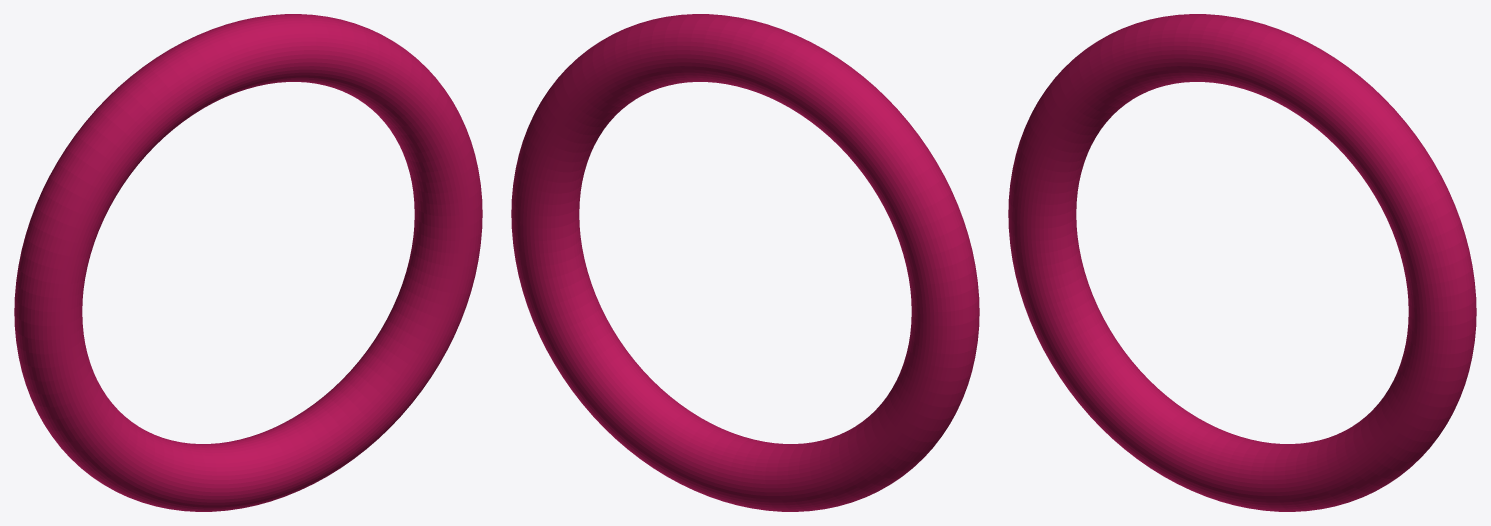
3 renders of one model, left to right at view 1: azimuth 30°, elevation 25°; view 2: azimuth 150°, elevation 25°; view 3: azimuth 330°, elevation 25°, orthographic.
Parts seen in each view (by area): view 1: world; view 2: world; view 3: world.
Part boxes in pixels (x1,y1,x2,y2): world: (14,14,482,511); world: (511,14,979,511); world: (1008,14,1476,511).
Size of the model in its own units: 26 by 26 by 3.33.
